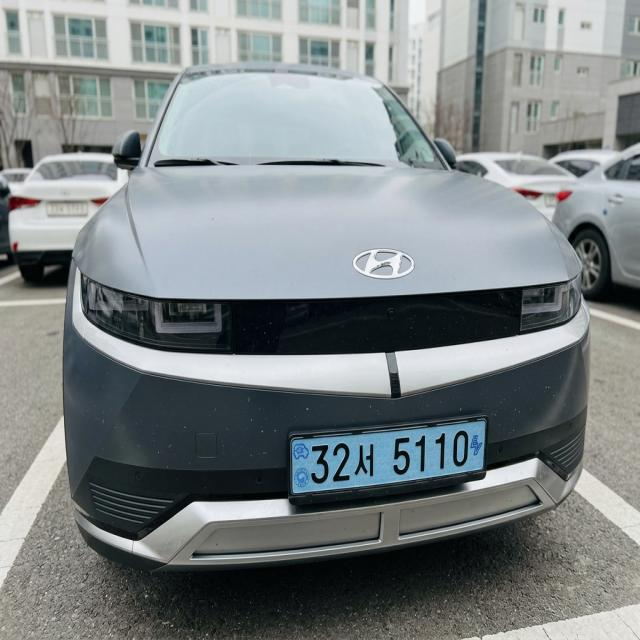car: (277, 398, 505, 520)
carev: (290, 436, 311, 504), (469, 414, 487, 475)
